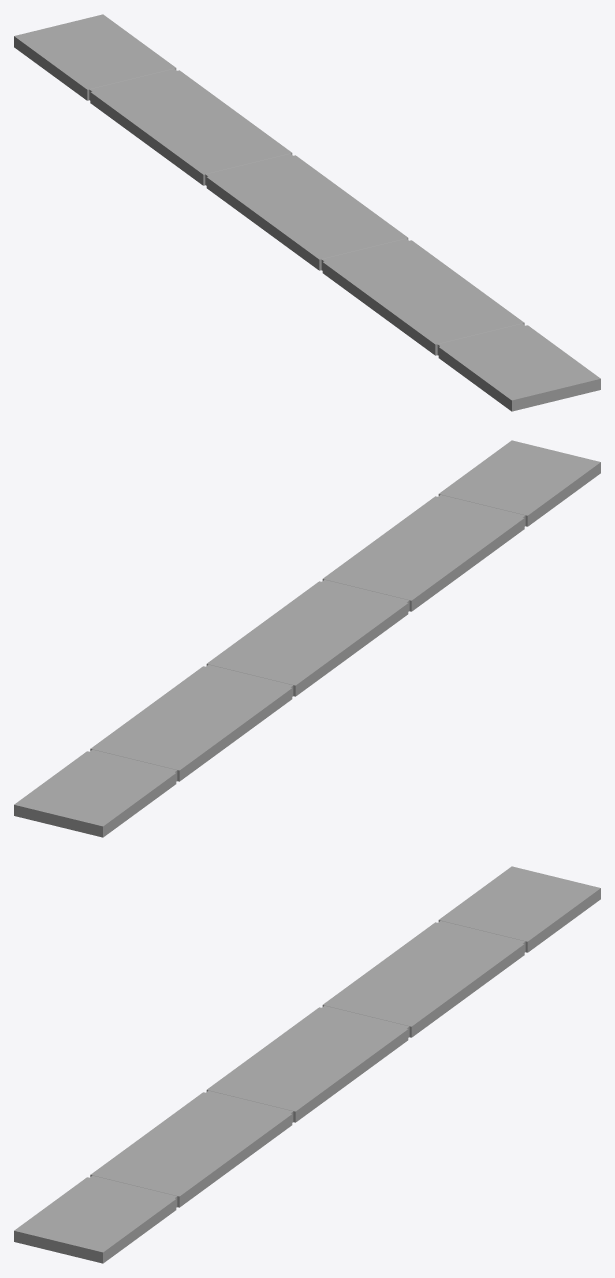
Rendered from Gutter_long.fbx.
3 renders of one model, top to bottom at view 1: azimuth 30°, elevation 25°; view 2: azimuth 150°, elevation 25°; view 3: azimuth 330°, elevation 25°, orthographic.
Visible parts, largest first — view 1: Cube.002; view 2: Cube.002; view 3: Cube.002.
Boxes of the visible parts, x1,y1,x2,y2 form: Cube.002: (14, 14, 600, 411); Cube.002: (14, 440, 600, 837); Cube.002: (14, 866, 600, 1263).
Bounding box in the file's own units: 136 × 16.33 × 1319.
